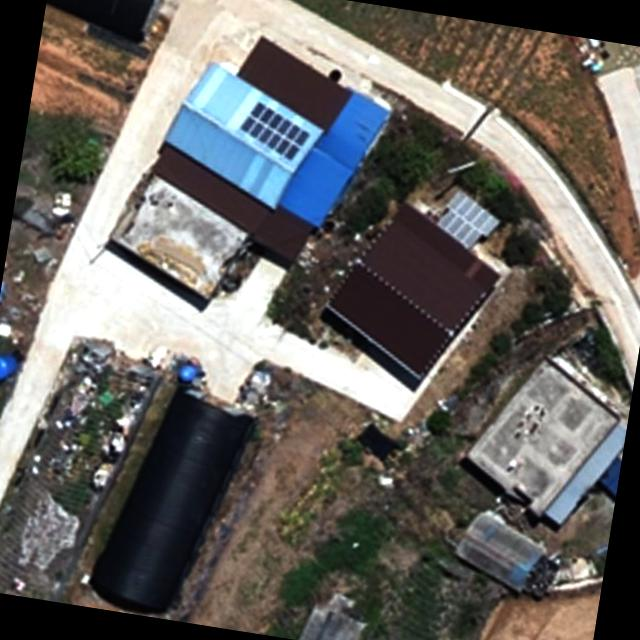solar: (431, 183, 511, 260), (232, 102, 314, 164)
